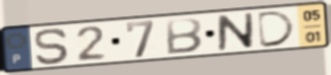2: (74, 25, 108, 63)
7: (124, 18, 157, 60)
B: (165, 16, 205, 56)
D: (256, 9, 299, 50)
N: (216, 11, 256, 53)
S: (33, 26, 73, 66)
